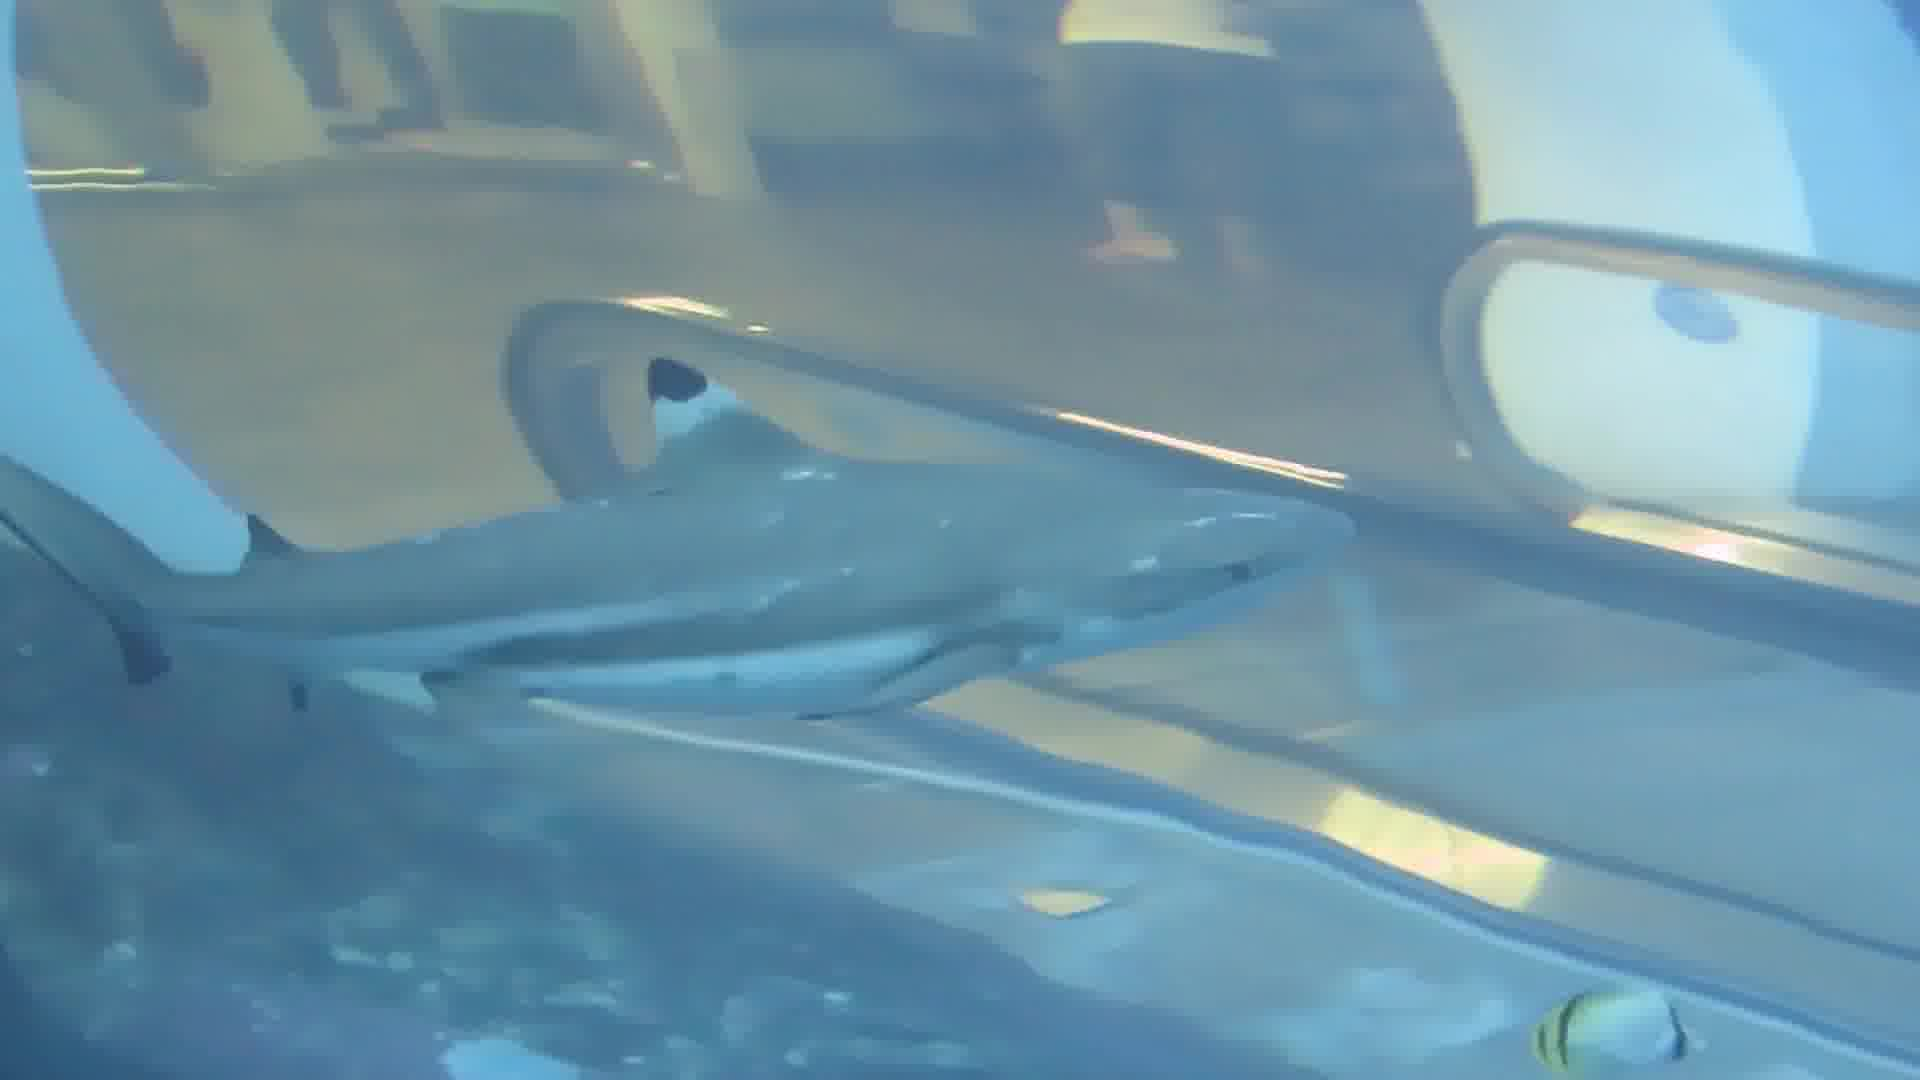Carcharhinus melanopterus: (1, 348, 1382, 767)
